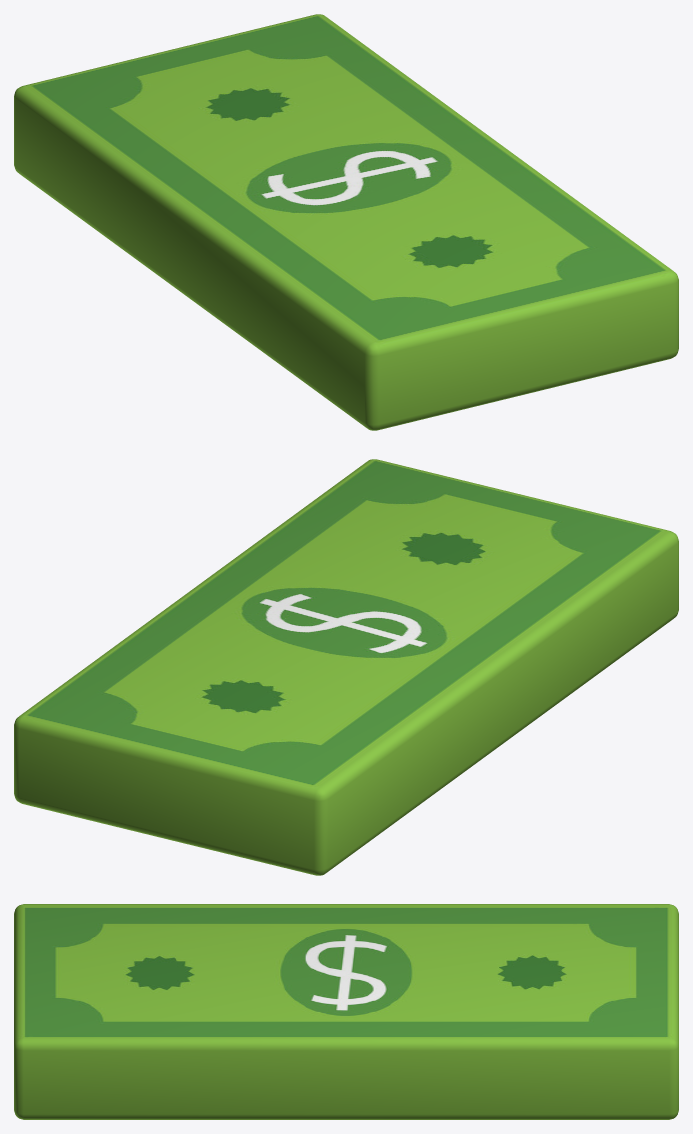
File: Money.fbx
3 views of the same model, one above another, from view 1: azimuth 30°, elevation 25°; view 2: azimuth 150°, elevation 25°; view 3: azimuth 270°, elevation 25° (orthographic). The views are drawn at different scales.
Visible parts, largest first — view 1: Cube.006; view 2: Cube.006; view 3: Cube.006.
Part boxes in pixels (x1,y1,x2,y2): Cube.006: (14, 14, 678, 430); Cube.006: (14, 459, 678, 875); Cube.006: (14, 904, 678, 1119).
Size of the model in its own units: 0.4861 by 0.1301 by 0.9676.
1 material, 1 textured.
